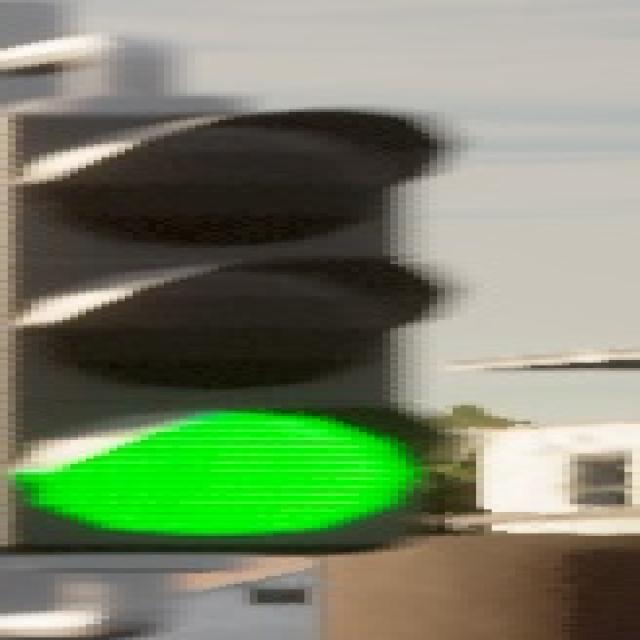green_light: (10, 109, 458, 579)
